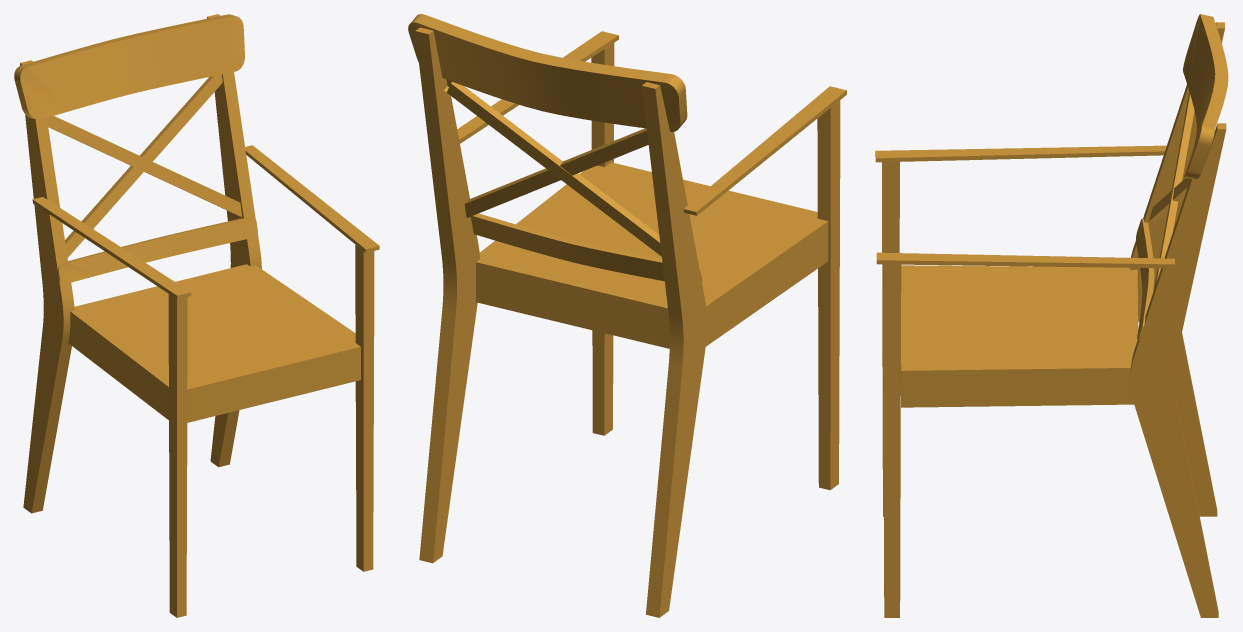
The model's file is IKEA-Ingolf_chair_with_armrest-3D.obj.
3 renders of one model, left to right at view 1: azimuth 30°, elevation 25°; view 2: azimuth 150°, elevation 25°; view 3: azimuth 270°, elevation 25°, orthographic. The views are drawn at different scales.
Visible parts, largest first — view 1: Layer_0; view 2: Layer_0; view 3: Layer_0.
Part boxes in pixels (x1,y1,x2,y2): Layer_0: (14,14,379,617); Layer_0: (408,14,846,617); Layer_0: (875,14,1228,617).
Size of the model in its own units: 479 by 913 by 592.
